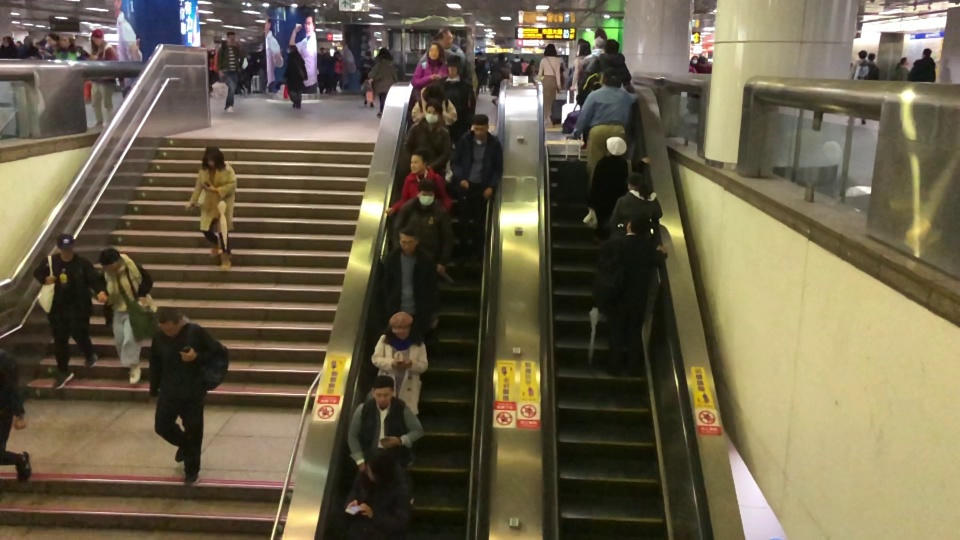person_head: (363, 446, 394, 483), (371, 373, 396, 410), (395, 224, 423, 256), (156, 307, 184, 337), (387, 309, 414, 340), (96, 246, 122, 276), (623, 214, 653, 238), (54, 231, 77, 262), (416, 175, 435, 208), (604, 135, 629, 160), (408, 149, 432, 174), (422, 99, 444, 125), (470, 112, 490, 139), (443, 52, 462, 79), (202, 144, 223, 167), (627, 170, 648, 192), (601, 66, 622, 87), (434, 27, 454, 49), (426, 40, 444, 64), (603, 35, 621, 54), (57, 33, 72, 50), (577, 39, 592, 56), (543, 42, 557, 57), (592, 35, 606, 50), (92, 29, 104, 46), (45, 32, 59, 46), (224, 30, 237, 45), (376, 46, 390, 59), (2, 34, 13, 46), (922, 47, 933, 58), (690, 54, 699, 66), (288, 43, 298, 53), (857, 50, 867, 60), (867, 51, 876, 62), (900, 56, 908, 66), (365, 51, 371, 57)
person_vbox: (149, 309, 222, 484), (591, 216, 667, 375), (36, 233, 108, 389), (451, 113, 503, 274), (572, 68, 639, 188), (346, 374, 423, 473), (98, 248, 152, 383), (183, 146, 238, 272), (343, 446, 415, 539), (577, 38, 632, 152), (390, 176, 452, 274), (589, 135, 650, 234), (383, 225, 437, 336), (371, 311, 428, 416), (384, 146, 452, 219), (1, 349, 33, 483), (433, 55, 477, 149), (401, 102, 453, 176), (608, 169, 662, 239), (85, 28, 120, 127), (416, 28, 466, 80), (413, 40, 450, 103), (367, 47, 399, 119), (410, 83, 456, 129), (537, 43, 562, 127), (217, 30, 242, 113), (846, 49, 869, 126), (285, 43, 309, 109), (578, 35, 606, 90), (569, 39, 592, 92), (357, 50, 378, 107), (907, 48, 936, 82), (52, 34, 80, 59), (1, 34, 21, 59), (893, 57, 909, 80), (866, 52, 879, 80)
